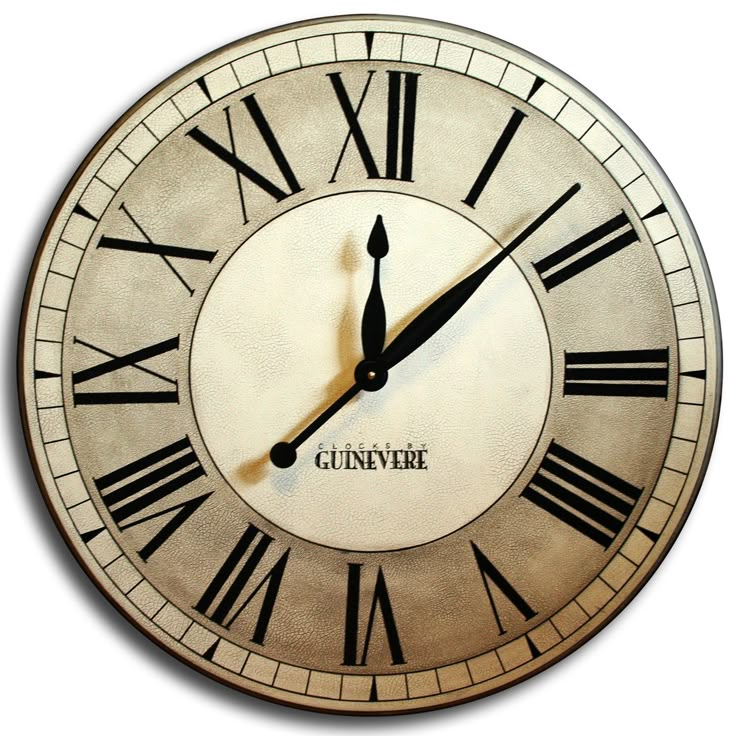clock: (23, 15, 732, 736)
